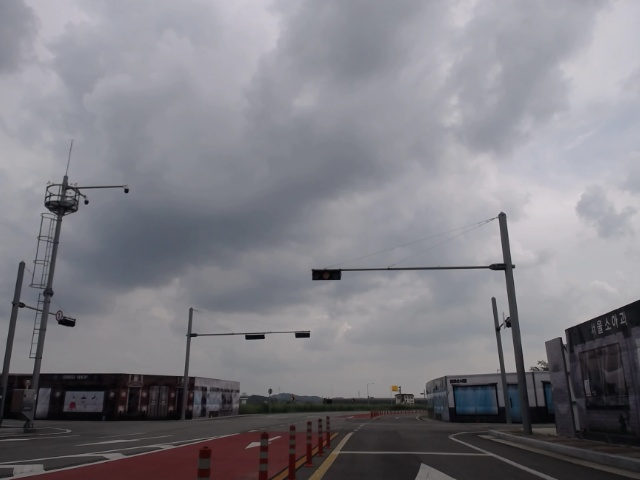orange_3: (313, 270, 341, 280)
